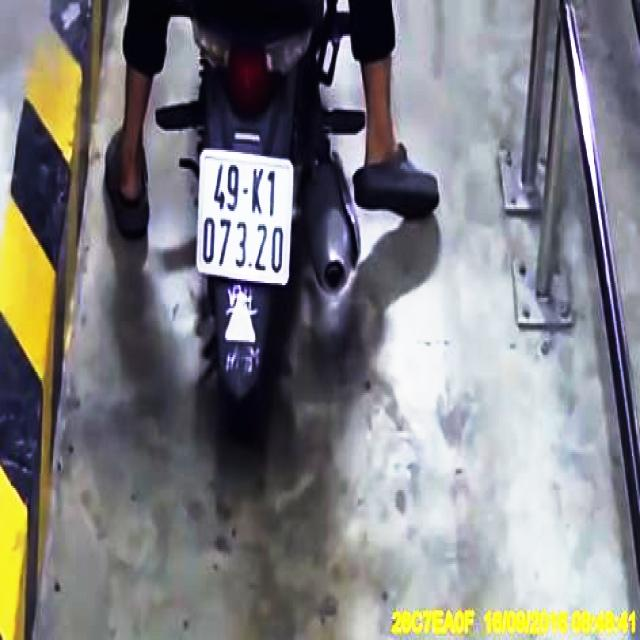license_plate: (200, 154, 296, 286)
